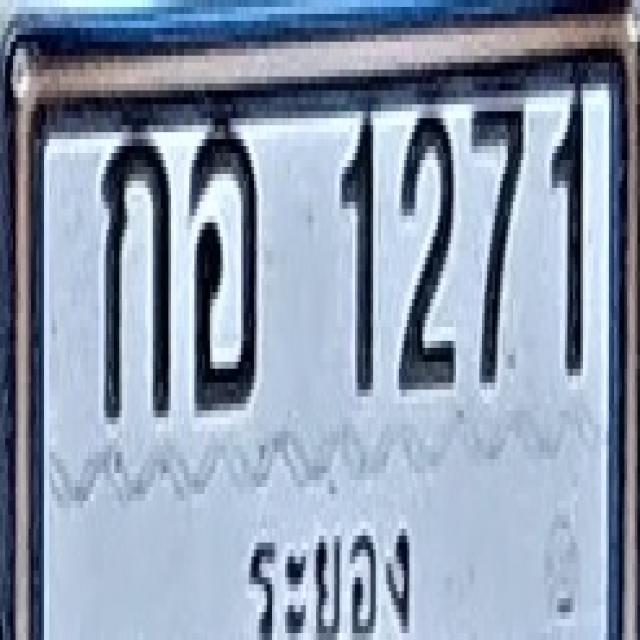1: (549, 90, 583, 376), (340, 108, 373, 393)
2: (398, 108, 454, 386)
7: (472, 101, 524, 379)
A01: (102, 129, 170, 414)
A43: (189, 115, 257, 407)
RYG: (243, 496, 429, 640)
